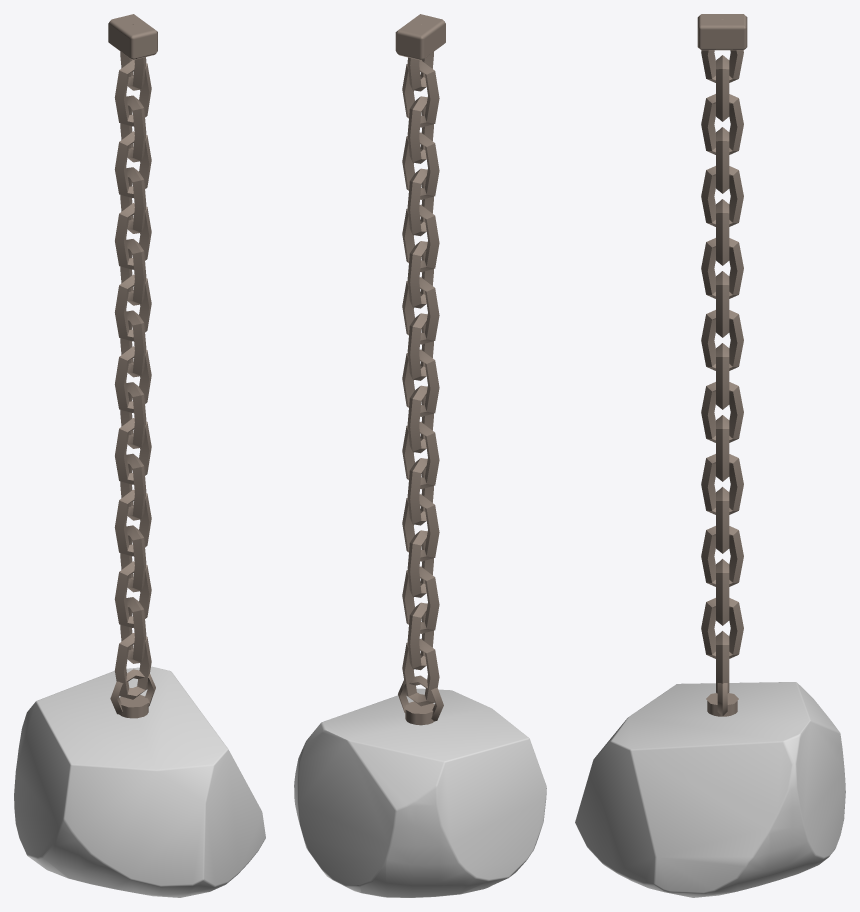
The model's file is mover_boulder_chain.glb.
3 renders of one model, left to right at view 1: azimuth 30°, elevation 25°; view 2: azimuth 150°, elevation 25°; view 3: azimuth 270°, elevation 25°, orthographic.
Visible parts, largest first — view 1: mover_boulder_chain; view 2: mover_boulder_chain; view 3: mover_boulder_chain.
Boxes of the visible parts, x1,y1,x2,y2 form: mover_boulder_chain: [14, 14, 265, 897]; mover_boulder_chain: [294, 14, 546, 897]; mover_boulder_chain: [575, 14, 845, 897].
Size of the model in its own units: 2.97 by 11.27 by 3.26.
